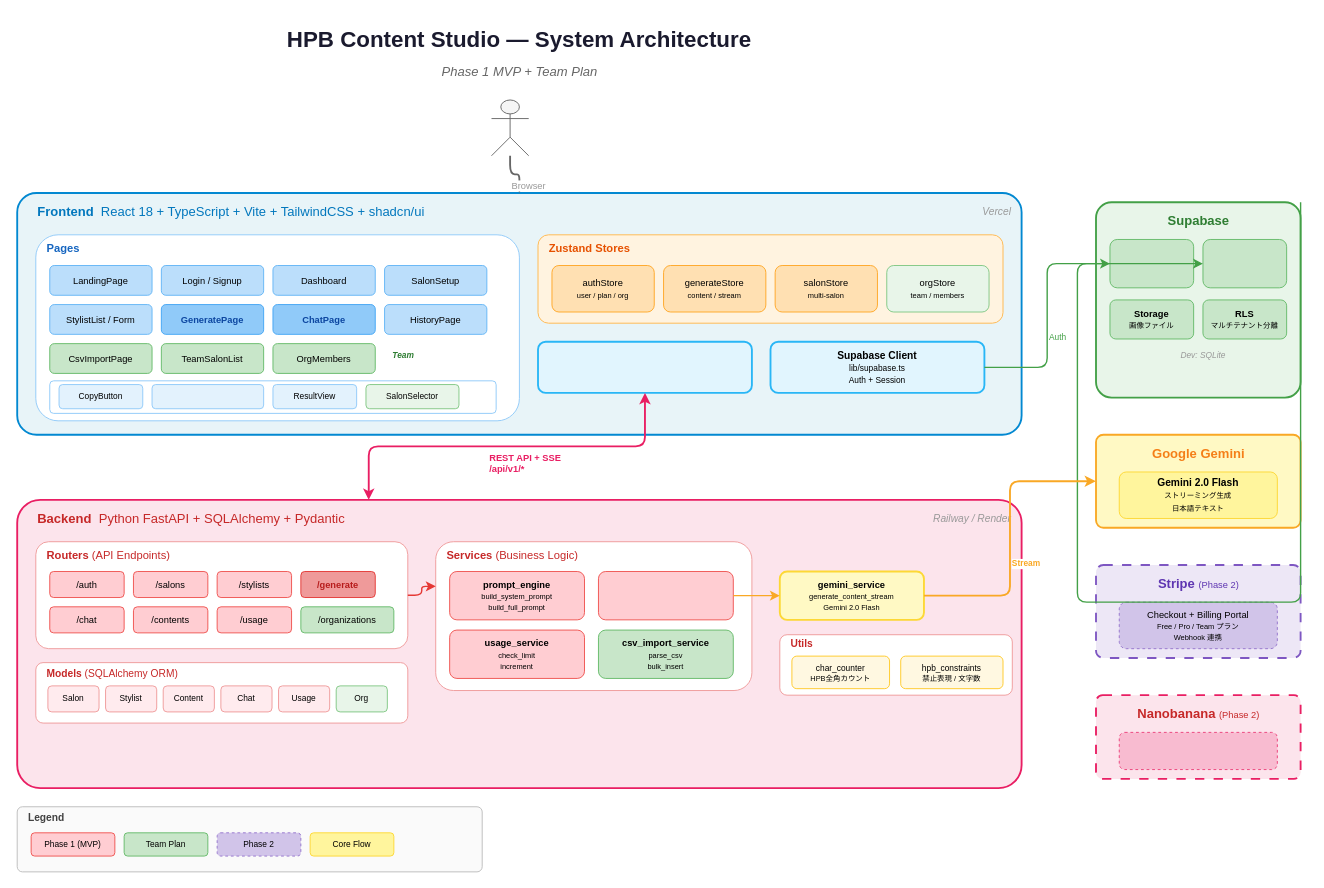
The diagram is 1324 pixels wide and 888 high, and some of its shapes have lost their labels. The shapes that lost their labels are listed below. From the top down, each one's centre as x and y in pixels, then its label:
the point at 510,127: User (Salon Staff)
the point at 1151,263: Auth Email + Password JWT Session
the point at 1244,263: PostgreSQL 8 Tables RLS (Row Level Security)
the point at 644,366: API Client lib/api.ts Bearer Token + SSE Stream
the point at 207,396: CharCounter (HPB)
the point at 665,595: content_service generate_stream save_content
the point at 1197,750: AI画像生成 ⚠ HPB掲載禁止 — SNS用
